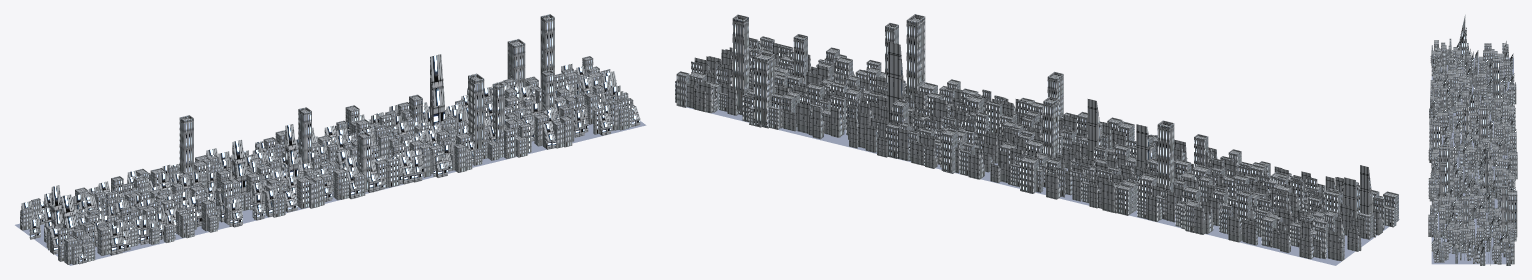
File: city.fbx
The picture shows the model from 3 angles, left to right: view 1: azimuth 30°, elevation 25°; view 2: azimuth 150°, elevation 25°; view 3: azimuth 270°, elevation 25°; orthographic projection. The views are drawn at different scales.
Parts seen in each view (by area): view 1: City; view 2: City; view 3: City.
Part boxes in pixels (x1,y1,x2,y2): City: (15, 14, 646, 265); City: (675, 14, 1399, 265); City: (1428, 15, 1517, 265).
Bounding box in the file's own units: 5006 × 689 × 901.
